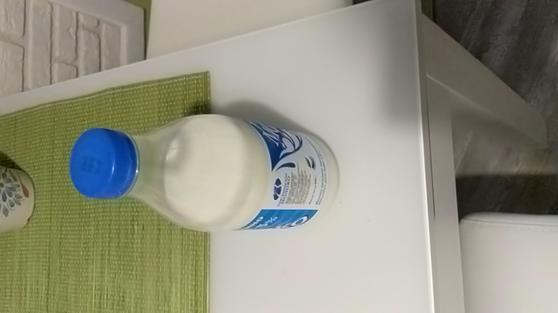milk: (63, 104, 354, 236)
